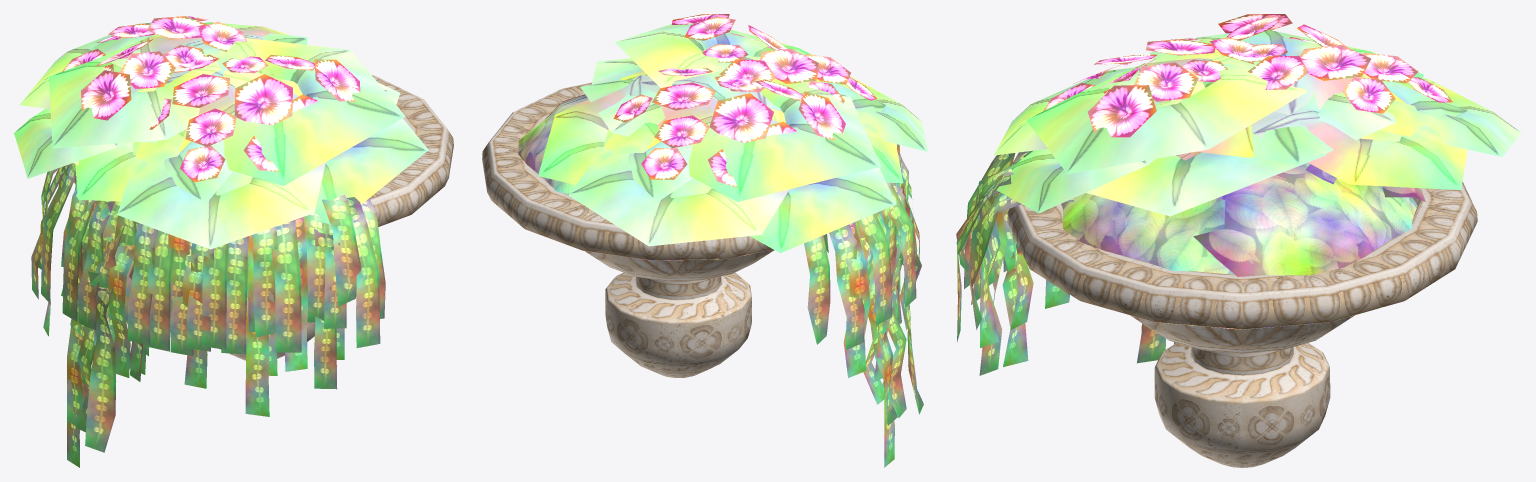
The model's file is smallbowl04_SM.fbx.
3 views of the same model, side by side, from view 1: azimuth 30°, elevation 25°; view 2: azimuth 150°, elevation 25°; view 3: azimuth 270°, elevation 25° (orthographic). The views are drawn at different scales.
Visible parts, largest first — view 1: smallbowl04_SM_LOD0; view 2: smallbowl04_SM_LOD0; view 3: smallbowl04_SM_LOD0.
Part boxes in pixels (x1,y1,x2,y2): smallbowl04_SM_LOD0: [14, 16, 453, 467]; smallbowl04_SM_LOD0: [482, 14, 927, 467]; smallbowl04_SM_LOD0: [956, 14, 1521, 467].
Size of the model in its own units: 179 by 186 by 162.
Materials: 7 (7 with a texture image).
